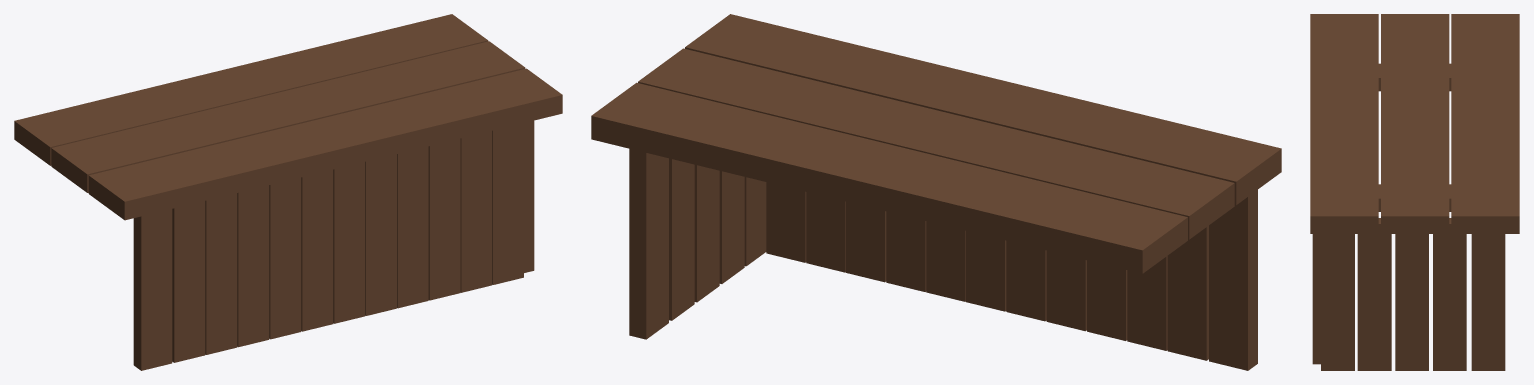
File: Bar_Table.fbx
3 views of the same model, side by side, from view 1: azimuth 30°, elevation 25°; view 2: azimuth 150°, elevation 25°; view 3: azimuth 270°, elevation 25° (orthographic). The views are drawn at different scales.
Parts seen in each view (by area): view 1: Cube.275; view 2: Cube.275; view 3: Cube.275.
Boxes of the visible parts, <box> form: Cube.275: <box>14,14,562,370</box>; Cube.275: <box>591,14,1281,370</box>; Cube.275: <box>1310,14,1519,370</box>.
Size of the model in its own units: 182 by 69.13 by 79.41.
Materials: 1 (1 with a texture image).
